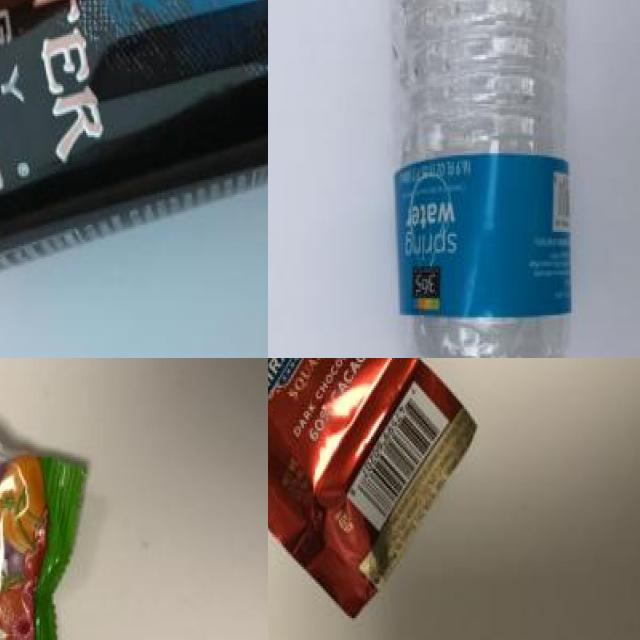plastic: (387, 0, 595, 358), (0, 0, 268, 272)
trash: (268, 358, 506, 618), (0, 358, 105, 640)
